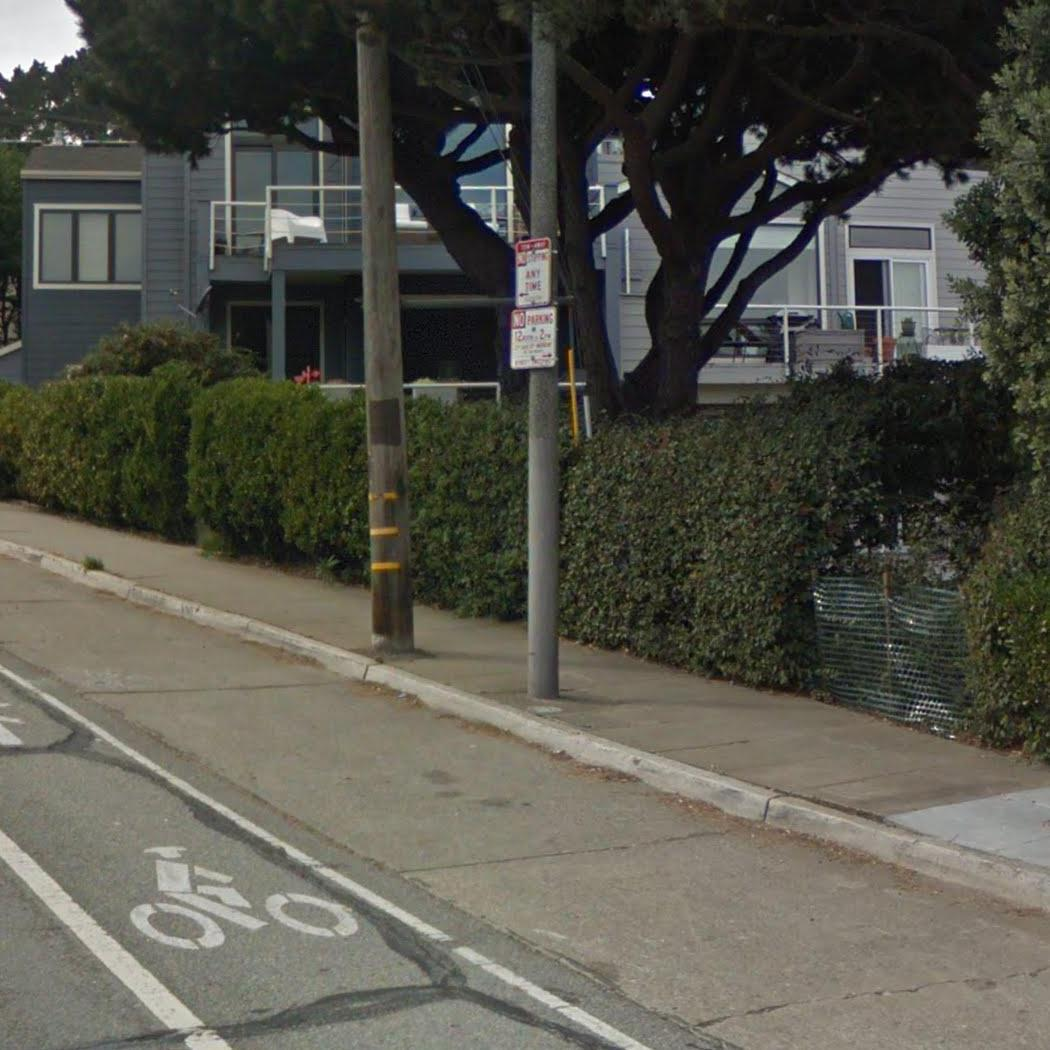No Parking: (506, 304, 559, 371)
No Parking Anytime: (511, 235, 555, 310)
